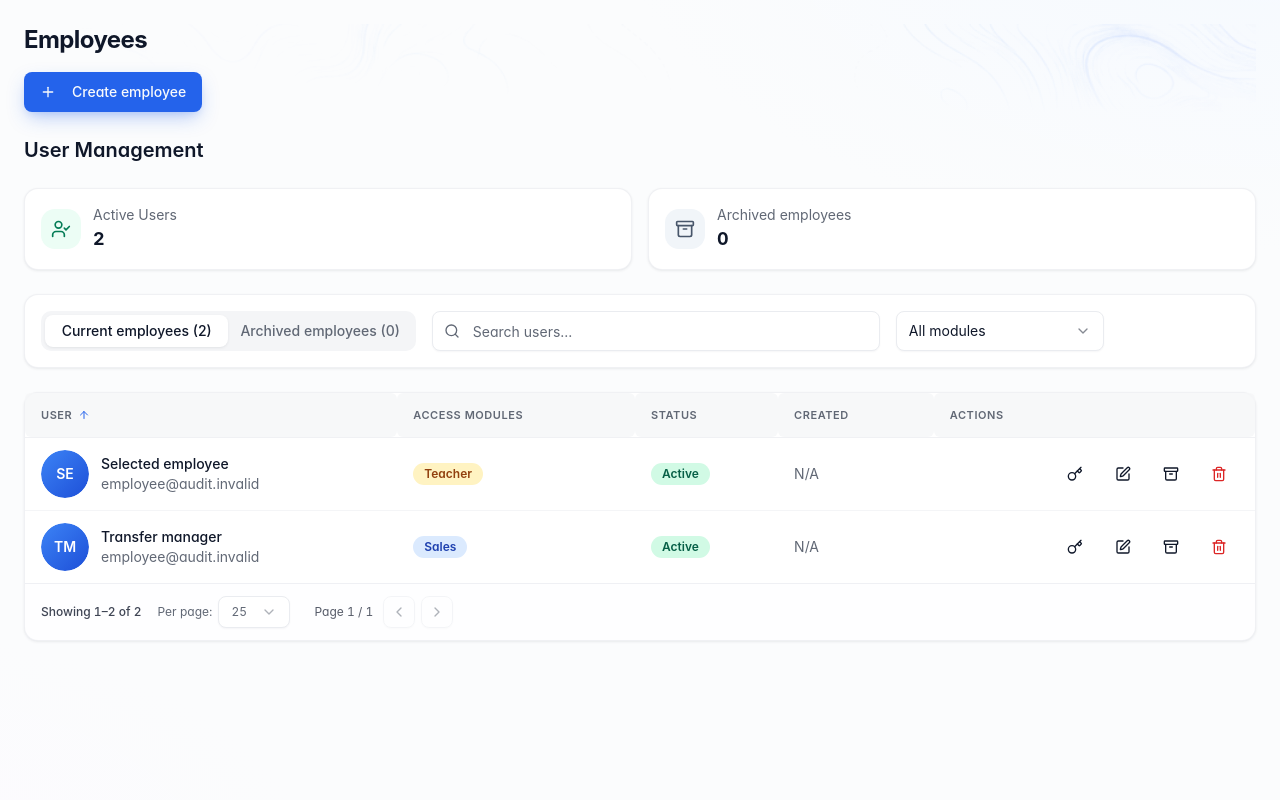
Test: keeps archive confirmation pending through the responsibility check and then opens the transfer dialog
Click the button named "Archive employee" in the row of "Selected employee": (1171, 474) top-left (1151, 456), bottom-right (1191, 492)
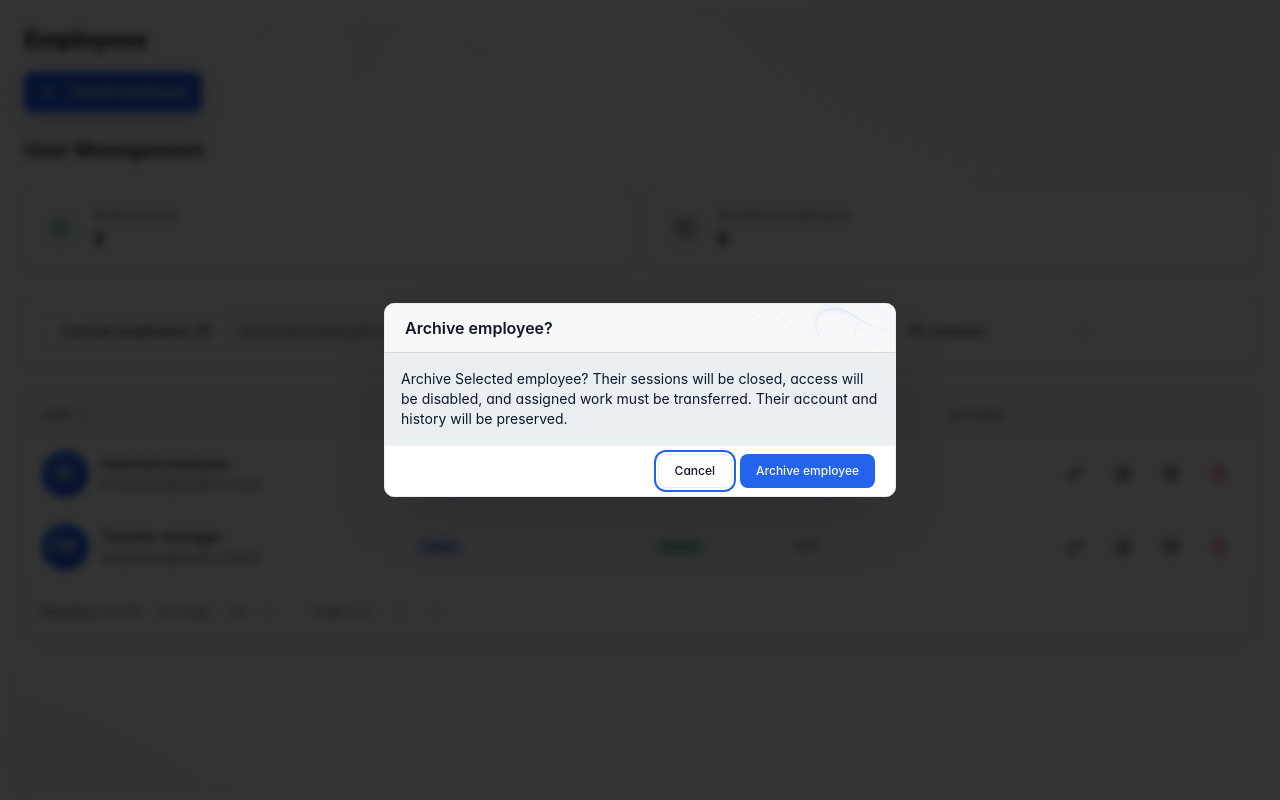
Click the button "Archive employee": (808, 471) top-left (740, 454), bottom-right (875, 488)
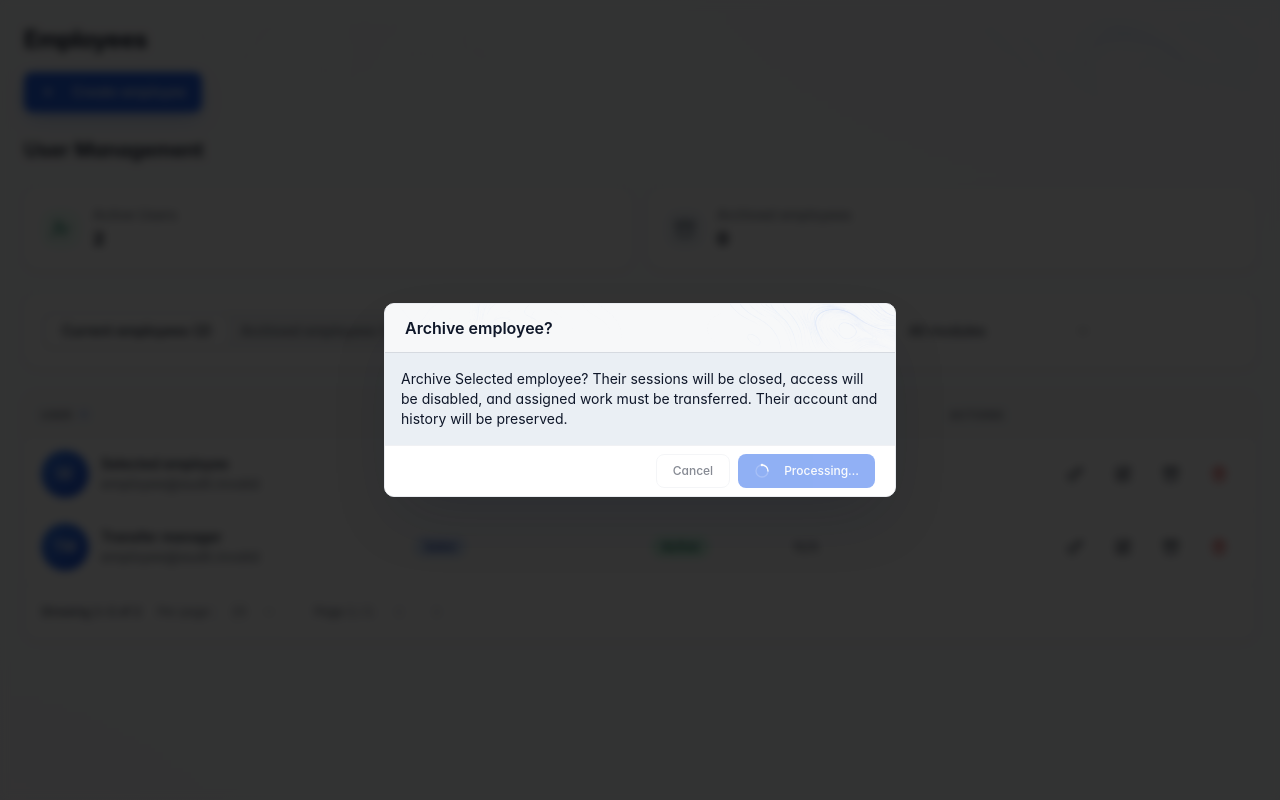
Expected: the button "Cancel" is disabled, top-left (656, 454), bottom-right (730, 488)
Click the button "Processing…": (807, 471) top-left (738, 454), bottom-right (875, 488)
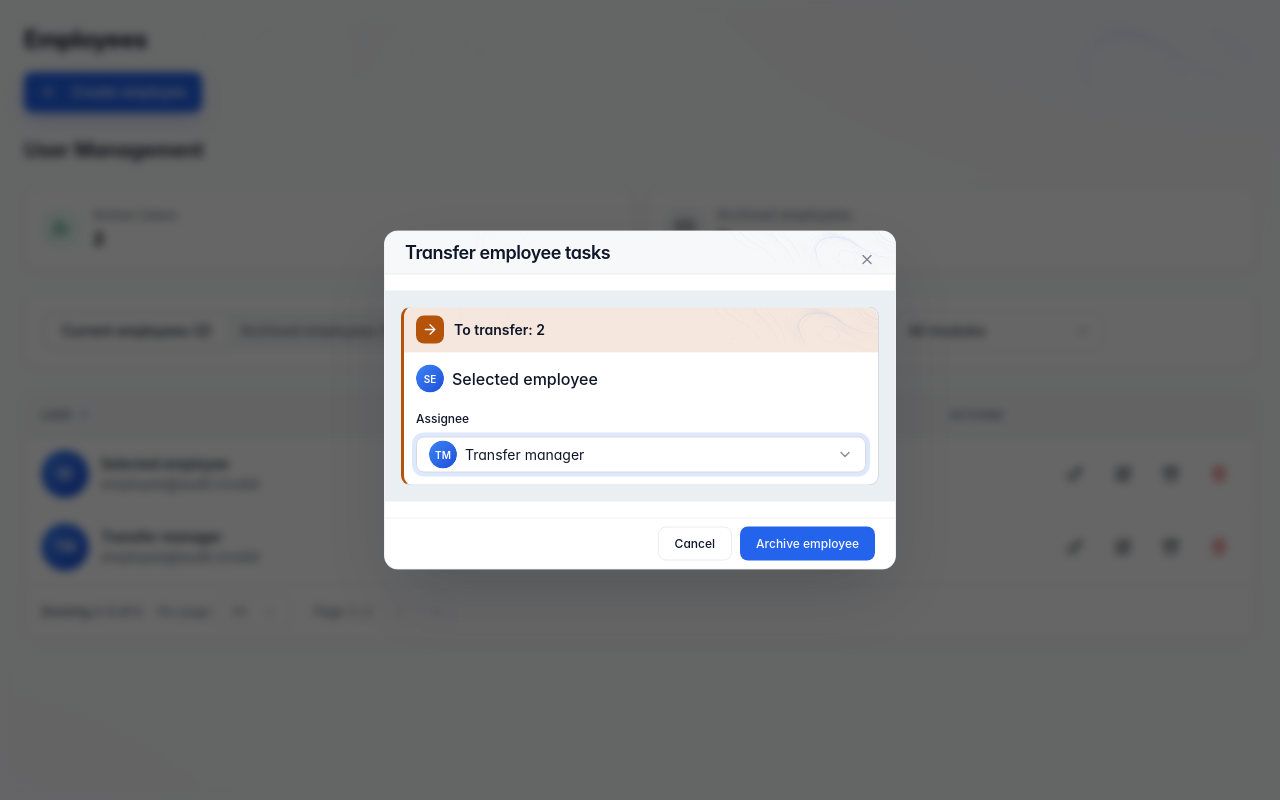
Expected: the dropdown shows "Transfer manager", top-left (416, 436), bottom-right (866, 472)
